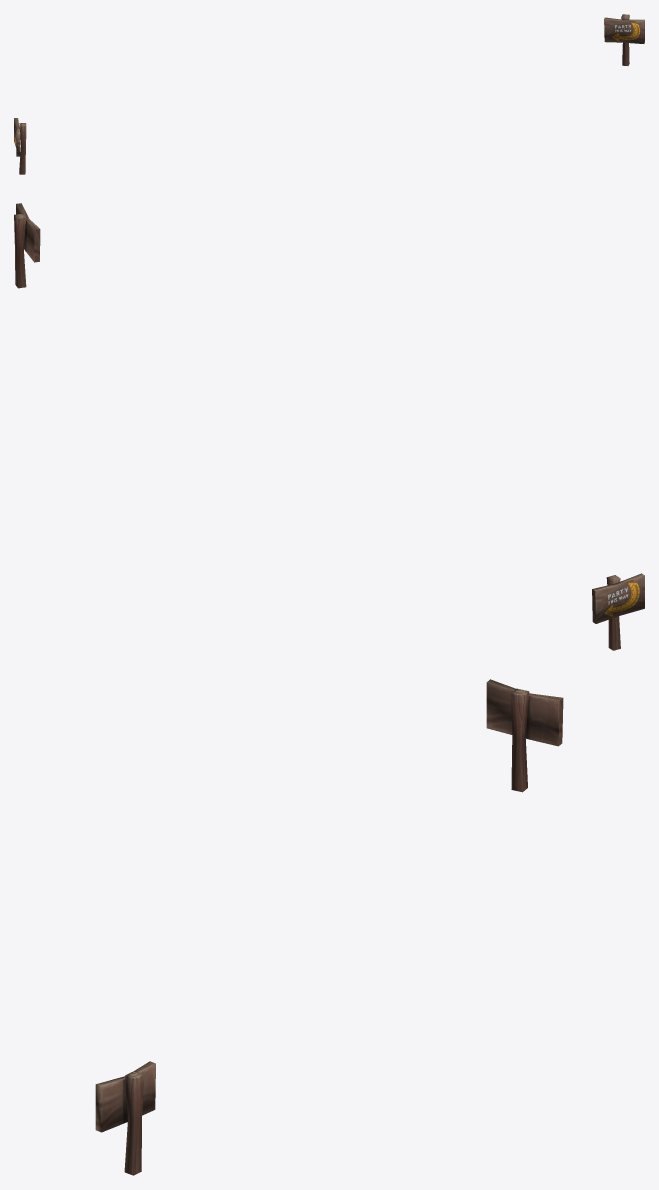
The model's file is PartySigns.glb.
3 renders of one model, top to bottom at view 1: azimuth 30°, elevation 25°; view 2: azimuth 150°, elevation 25°; view 3: azimuth 270°, elevation 25°, orthographic. The views are drawn at different scales.
Visible parts, largest first — view 1: Partysigns; view 2: Partysigns; view 3: Partysigns.
Boxes of the visible parts, box(x1,y1,x2,y2) form: Partysigns: box(14, 14, 644, 174); Partysigns: box(14, 203, 644, 650); Partysigns: box(95, 679, 563, 1175).
Size of what is drawn, in the model's own units: 21.99 by 4.18 by 8.38.
Materials: 1 (1 with a texture image).
